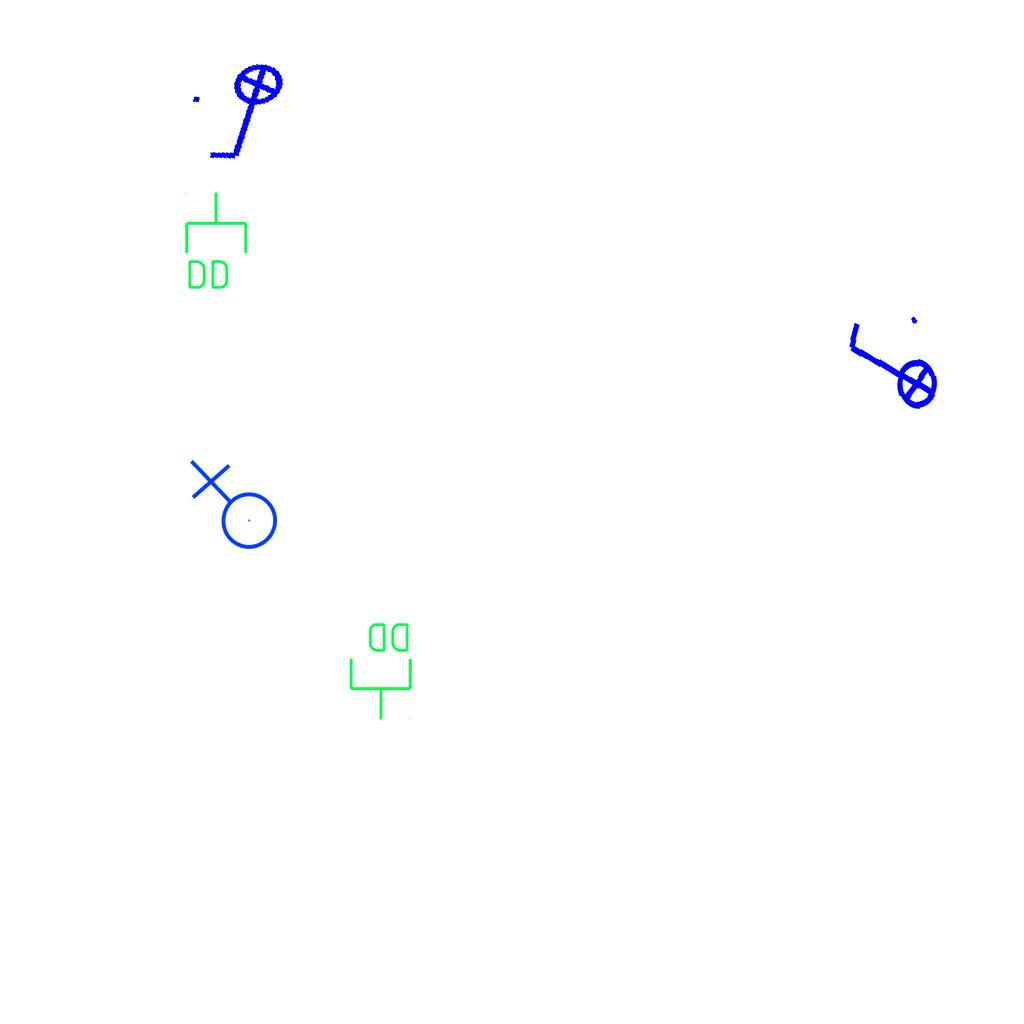Ausschalter_beleuchtet: (182, 53, 314, 175), (839, 309, 941, 427)
Datenanschluss_zweifach: (347, 619, 416, 722), (181, 190, 250, 293)
Elektroanschluss_allgemein_230V_Geraeteanschlussdose_230V: (185, 459, 279, 558)
